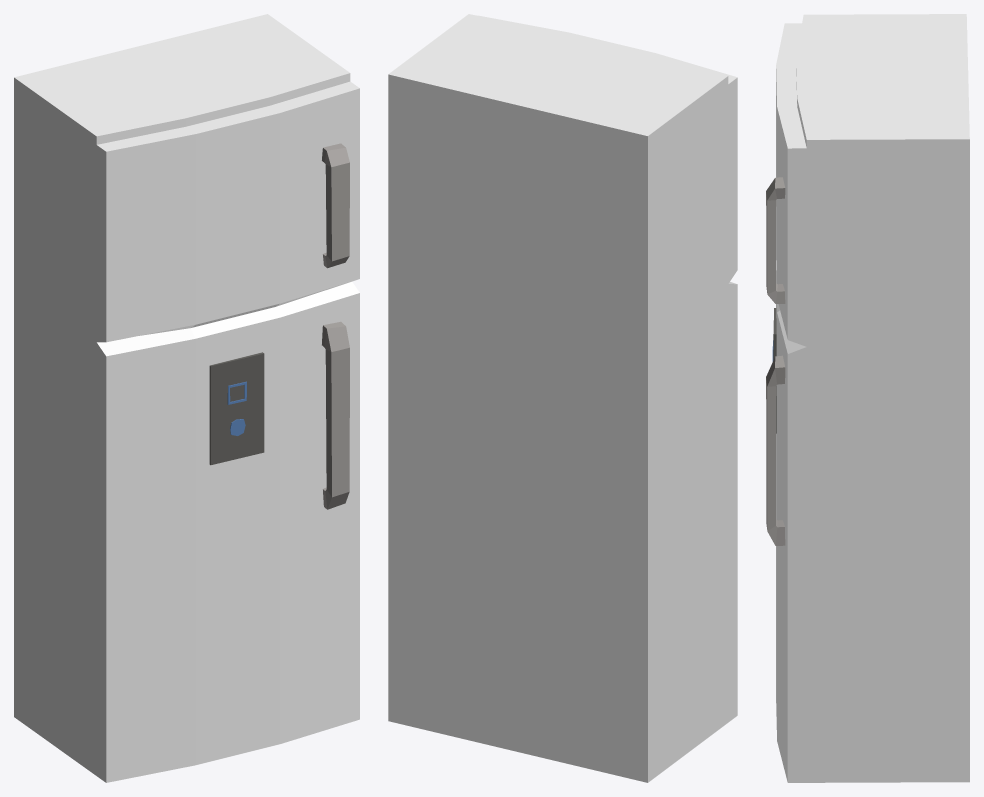
File: Kitchen_2_Fridge.fbx
3 views of the same model, side by side, from view 1: azimuth 30°, elevation 25°; view 2: azimuth 150°, elevation 25°; view 3: azimuth 270°, elevation 25° (orthographic).
Parts seen in each view (by area): view 1: Kitchen_2_Fridge; view 2: Kitchen_2_Fridge; view 3: Kitchen_2_Fridge.
Boxes of the visible parts, bbox=[...] form: Kitchen_2_Fridge: bbox=[14, 14, 359, 782]; Kitchen_2_Fridge: bbox=[388, 14, 737, 782]; Kitchen_2_Fridge: bbox=[766, 14, 969, 782].
Size of the model in its own units: 129 by 88.3 by 307.
